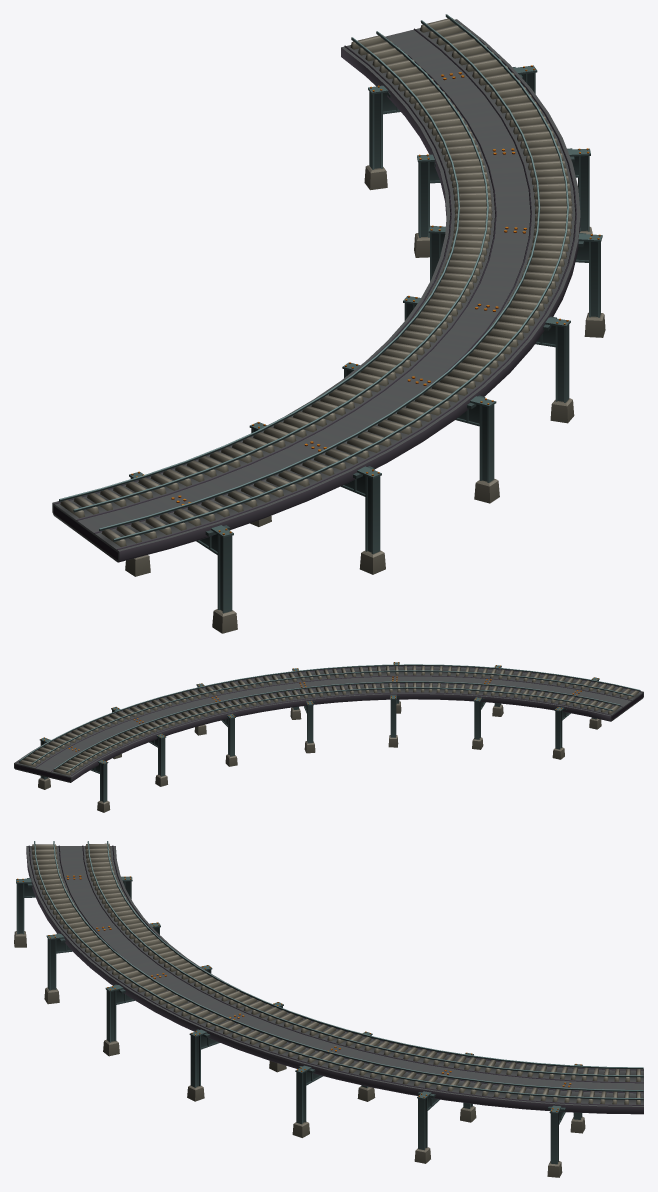
File: Train_Tracks_Suspended_1B.fbx
The picture shows the model from 3 angles, top to bottom: view 1: azimuth 30°, elevation 25°; view 2: azimuth 150°, elevation 25°; view 3: azimuth 270°, elevation 25°; orthographic projection. The views are drawn at different scales.
Parts seen in each view (by area): view 1: Train_Tracks_Suspended_1B; view 2: Train_Tracks_Suspended_1B; view 3: Train_Tracks_Suspended_1B.
Part boxes in pixels (x1,y1,x2,y2): Train_Tracks_Suspended_1B: (52, 14, 605, 633); Train_Tracks_Suspended_1B: (14, 662, 643, 812); Train_Tracks_Suspended_1B: (14, 841, 643, 1177).
Size of the model in its own units: 70.32 by 8.75 by 70.38.
